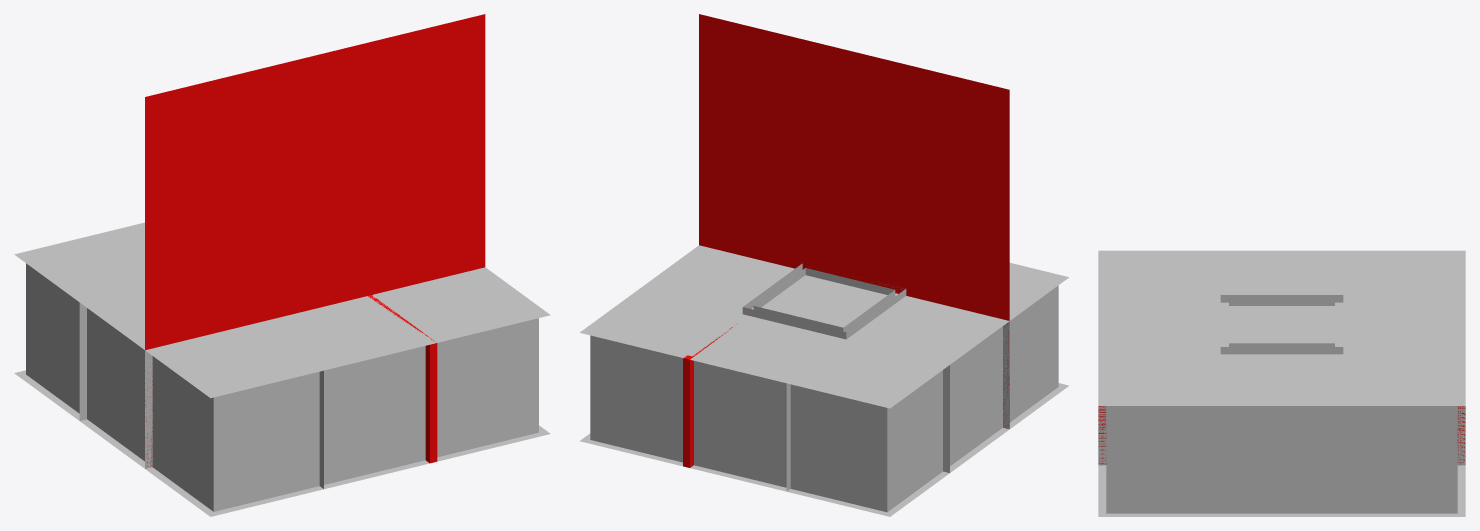
Rendered from make_your_level_V01.fbx.
3 renders of one model, left to right at view 1: azimuth 30°, elevation 25°; view 2: azimuth 150°, elevation 25°; view 3: azimuth 270°, elevation 25°, orthographic. The views are drawn at different scales.
Visible parts, largest first — view 1: corridor_only_wall_X3X3, corridor_only_wall_X3X2, room_Lx2x3_4doors, room_Lx3x3_8doors, room_ceiling_3X2, room_Lx1x3_2doors_V2, room_ceiling_3X3, room_Lx3x3_4doors, corridor_only_wall_X2X2, room_Lx2x3_10doors, corridor_turn_4doors_ext, room_Lx3x3_2doors (+8 smaller); view 2: corridor_only_wall_X3X3, room_Lx3x3_8doors, room_Lx2x3_4doors, corridor_only_wall_X3X2, corridor_only_wall_X2X2, room_Lx3x3_4doors, room_ceiling_3X2, room_Lx1x2_6doors, room_Lx2x3_10doors, room_ceiling_3X3, corridor_crossing_x3C, corridor_only_wall_X1X2 (+15 smaller); view 3: room_Lx3x3_8doors, room_Lx3x3_4doors, room_ceiling_3X2, room_ceiling_2X2, room_Lx2x3_4doors, room_Lx3x3_2doors, room_ceiling_3X3, room_floor_3X3, corridor_Lx3, corridor_enter_floor, room_enter_floor, corridor_crossing_x3C (+3 smaller).
Boxes of the visible parts, x1,y1,x2,y2 form: corridor_only_wall_X3X3: (145,14,485,341); corridor_only_wall_X3X2: (145,141,485,466); room_Lx2x3_4doors: (26,229,424,511); room_Lx3x3_8doors: (87,230,538,484); room_ceiling_3X2: (15,227,435,398); room_Lx1x3_2doors_V2: (276,297,425,483); room_ceiling_3X3: (16,226,550,396); room_Lx3x3_4doors: (26,265,538,506); corridor_only_wall_X2X2: (260,142,485,291); room_Lx2x3_10doors: (87,309,319,511); corridor_turn_4doors_ext: (79,297,323,482); room_Lx3x3_2doors: (437,318,538,452); corridor_only_wall_X3X3: (699,14,1009,312); room_Lx3x3_8doors: (590,248,1002,486); room_Lx2x3_4doors: (698,285,1058,512); corridor_only_wall_X3X2: (699,129,1009,426); corridor_only_wall_X2X2: (699,130,906,293); room_Lx3x3_4doors: (590,287,1058,511); room_ceiling_3X2: (694,263,1068,407); room_Lx1x2_6doors: (694,276,845,486); room_Lx2x3_10doors: (790,286,1058,511); room_ceiling_3X3: (579,264,1067,407); corridor_crossing_x3C: (639,245,794,313); corridor_only_wall_X1X2: (803,156,906,293); room_Lx3x3_8doors: (1106,303,1457,513); room_Lx3x3_4doors: (1106,406,1457,513); room_ceiling_3X2: (1098,250,1465,354); room_ceiling_2X2: (1220,250,1465,353); room_Lx2x3_4doors: (1106,254,1457,306); room_Lx3x3_2doors: (1343,406,1457,513); room_ceiling_3X3: (1098,250,1465,405); room_floor_3X3: (1098,465,1465,516); corridor_Lx3: (1098,303,1465,465); corridor_enter_floor: (1220,295,1343,354); room_enter_floor: (1229,298,1334,346); corridor_crossing_x3C: (1220,354,1343,516).
Bounding box in the file's own units: 900 × 940 × 900.
